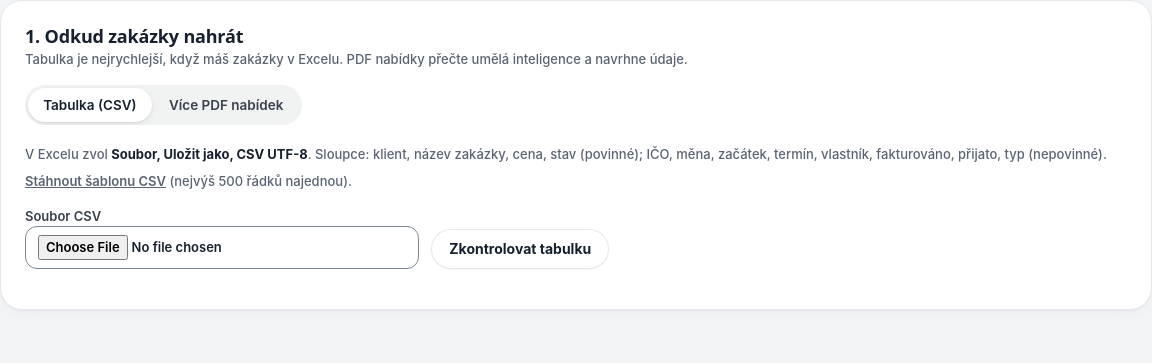
Test: BulkImport: zdroje › vadná tabulka ukáže chybu souboru a nezobrazí frontu
Click the button "Zkontrolovat tabulku". click: (520, 249)
box: left=431, top=229, right=609, bottom=269
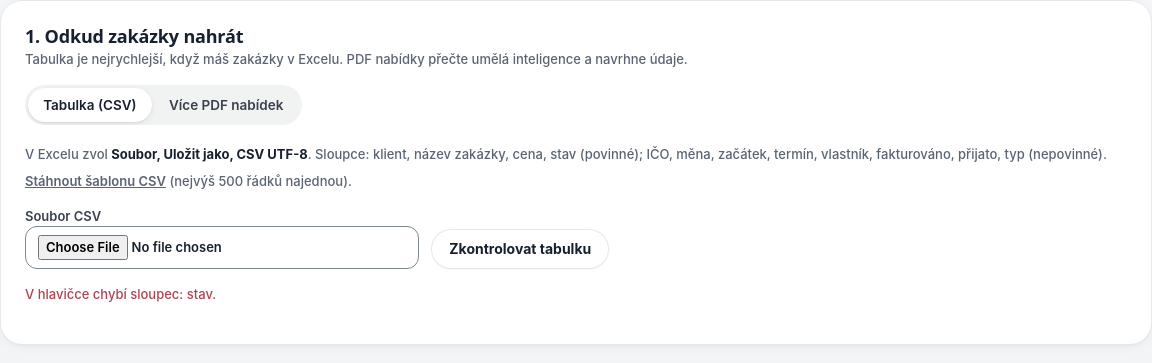
Now the message "V hlavičce chybí sloupec: stav." is shown, box left=25, top=286, right=216, bottom=302
